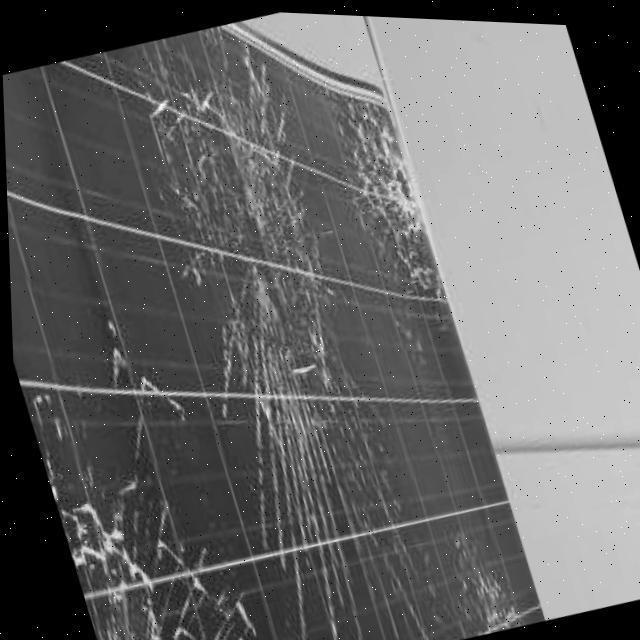Anomaly Solar Panel: (2, 10, 541, 640)
Structural Damage: (102, 75, 416, 614), (20, 358, 265, 640), (314, 74, 452, 314), (326, 520, 533, 640)
